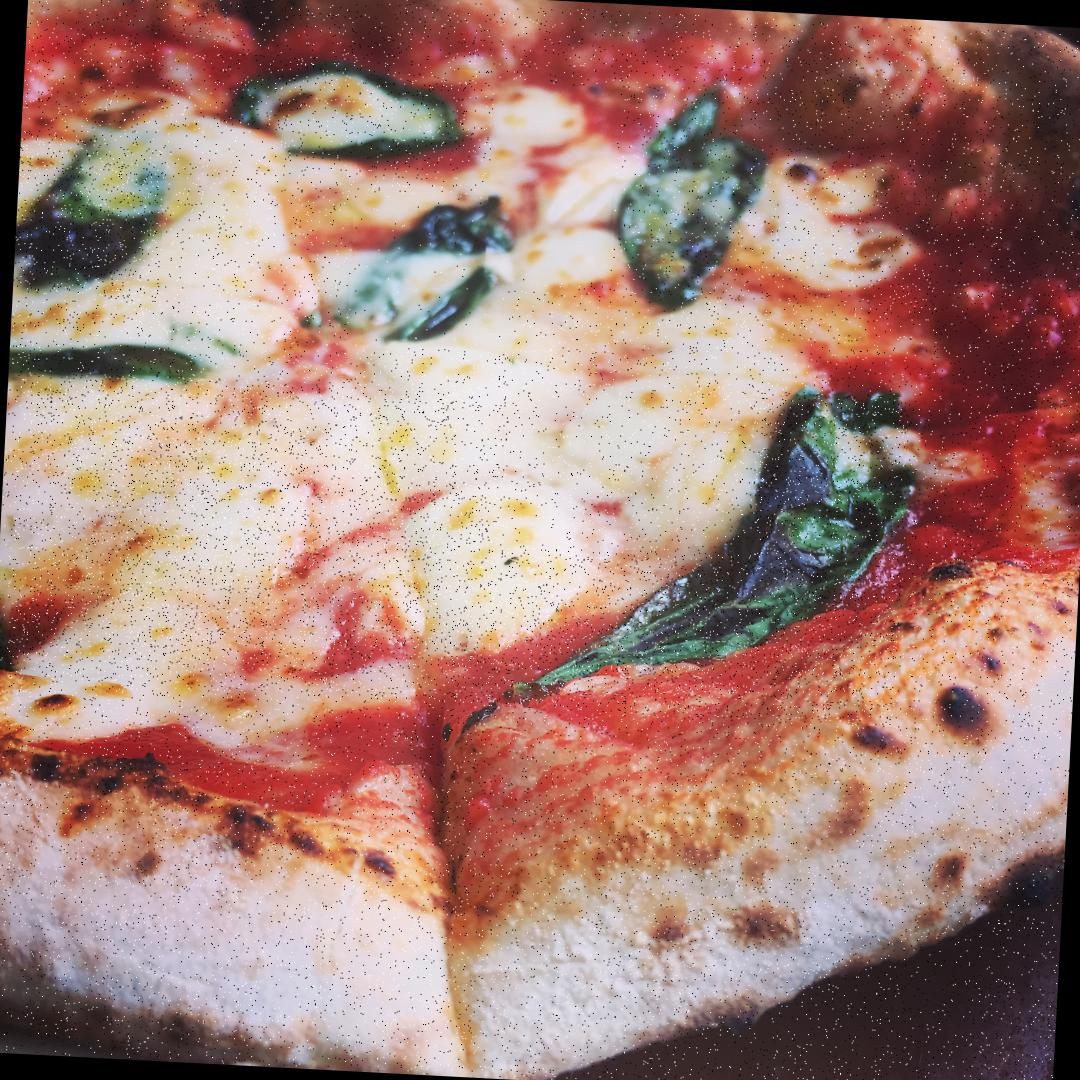Basil: (479, 376, 911, 726), (610, 100, 774, 320), (12, 130, 208, 302), (326, 190, 519, 352), (219, 57, 495, 158), (8, 310, 225, 384)
Cheese: (6, 369, 540, 707), (504, 258, 763, 558), (157, 125, 359, 340), (484, 82, 620, 284), (758, 164, 906, 306)
Pizza: (0, 0, 1080, 1080)
